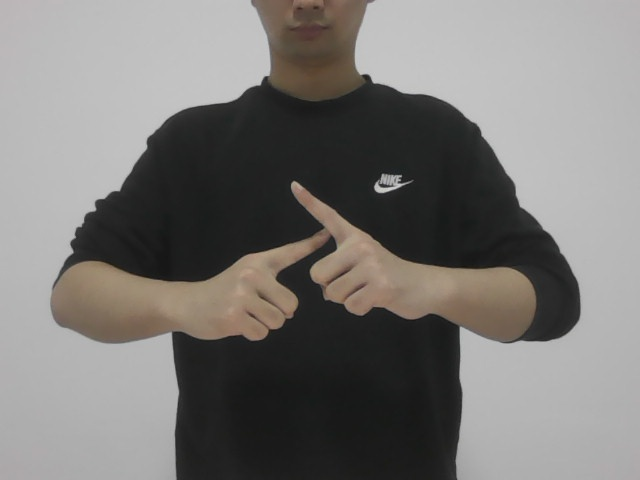peason: (213, 176, 401, 340)
